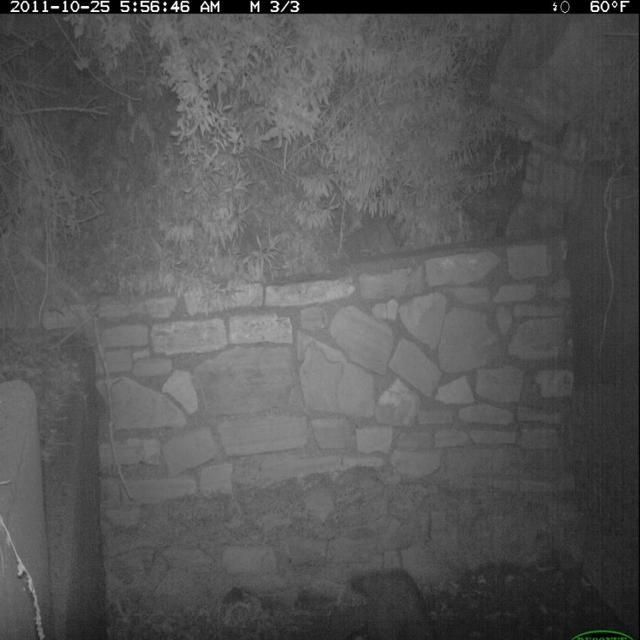raccoon: (343, 550, 447, 640)
